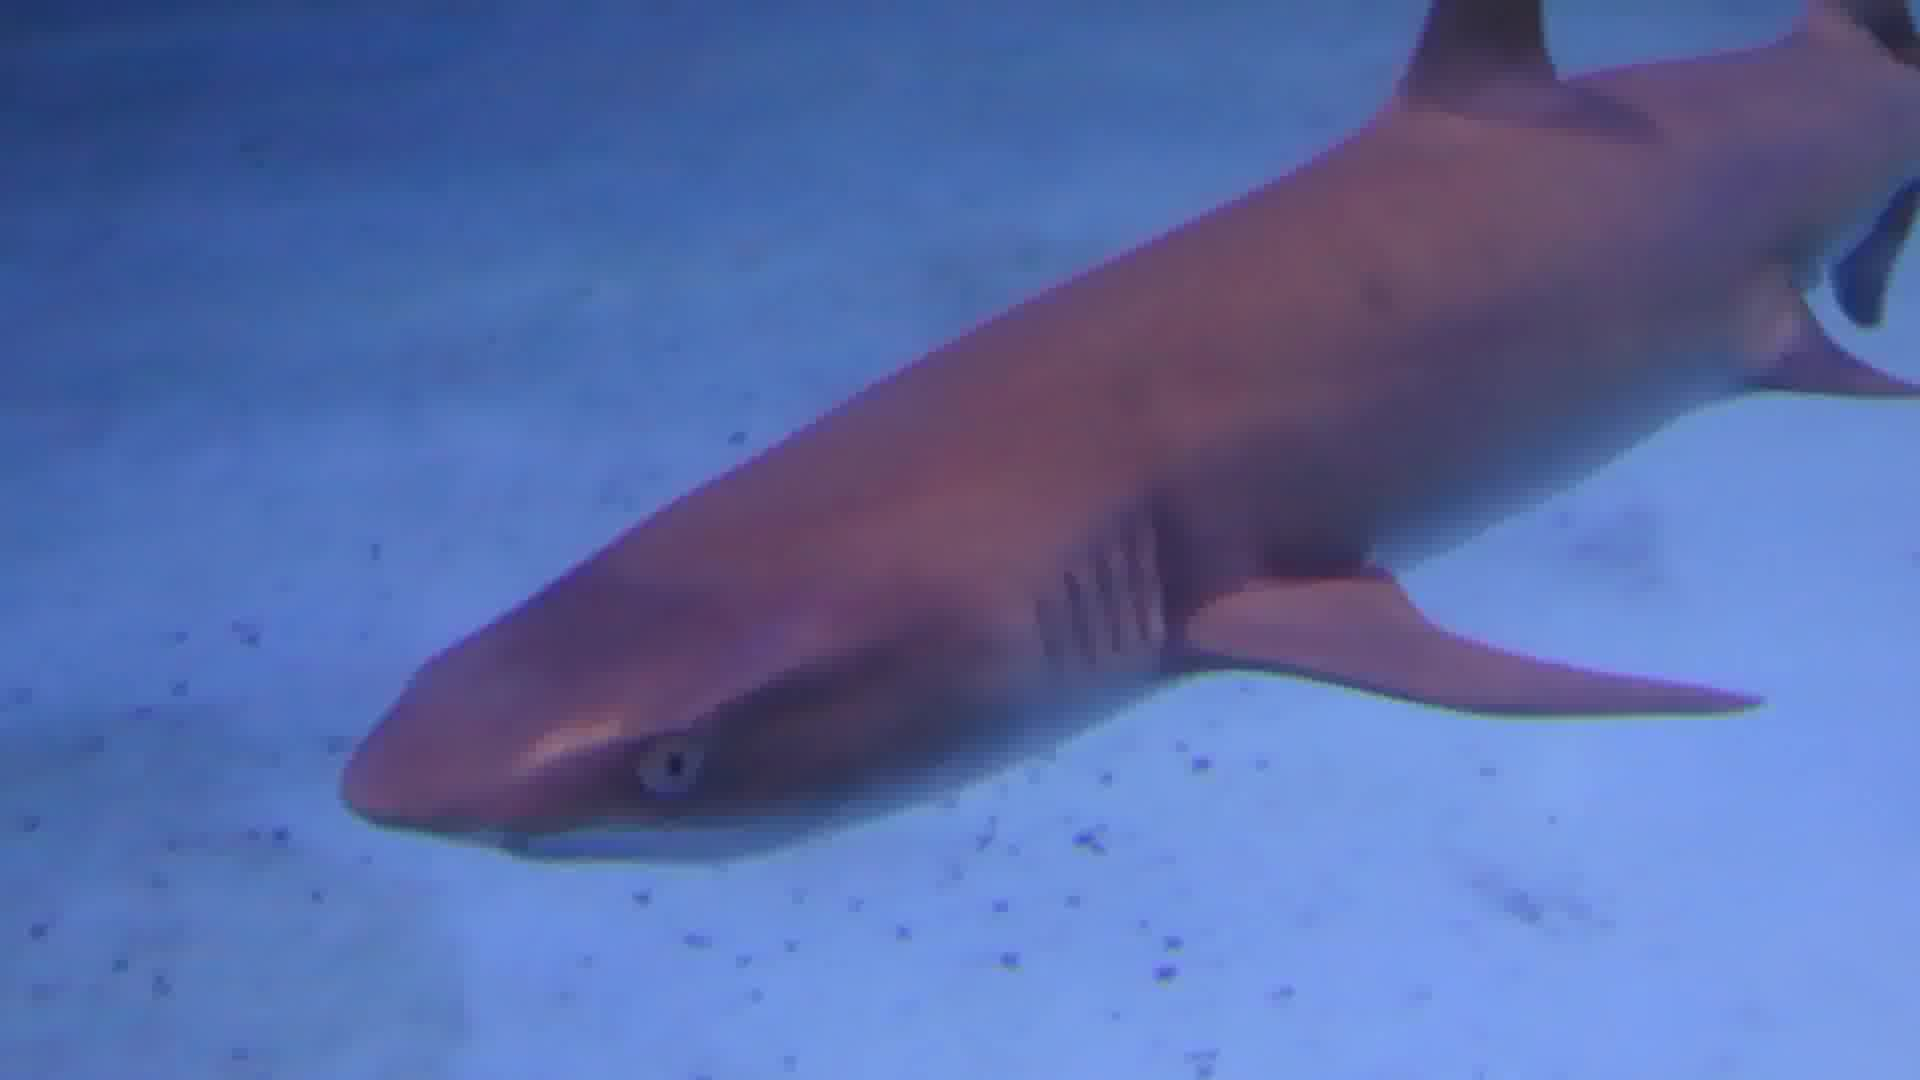Triaenodon obesus: (319, 1, 1920, 884)
